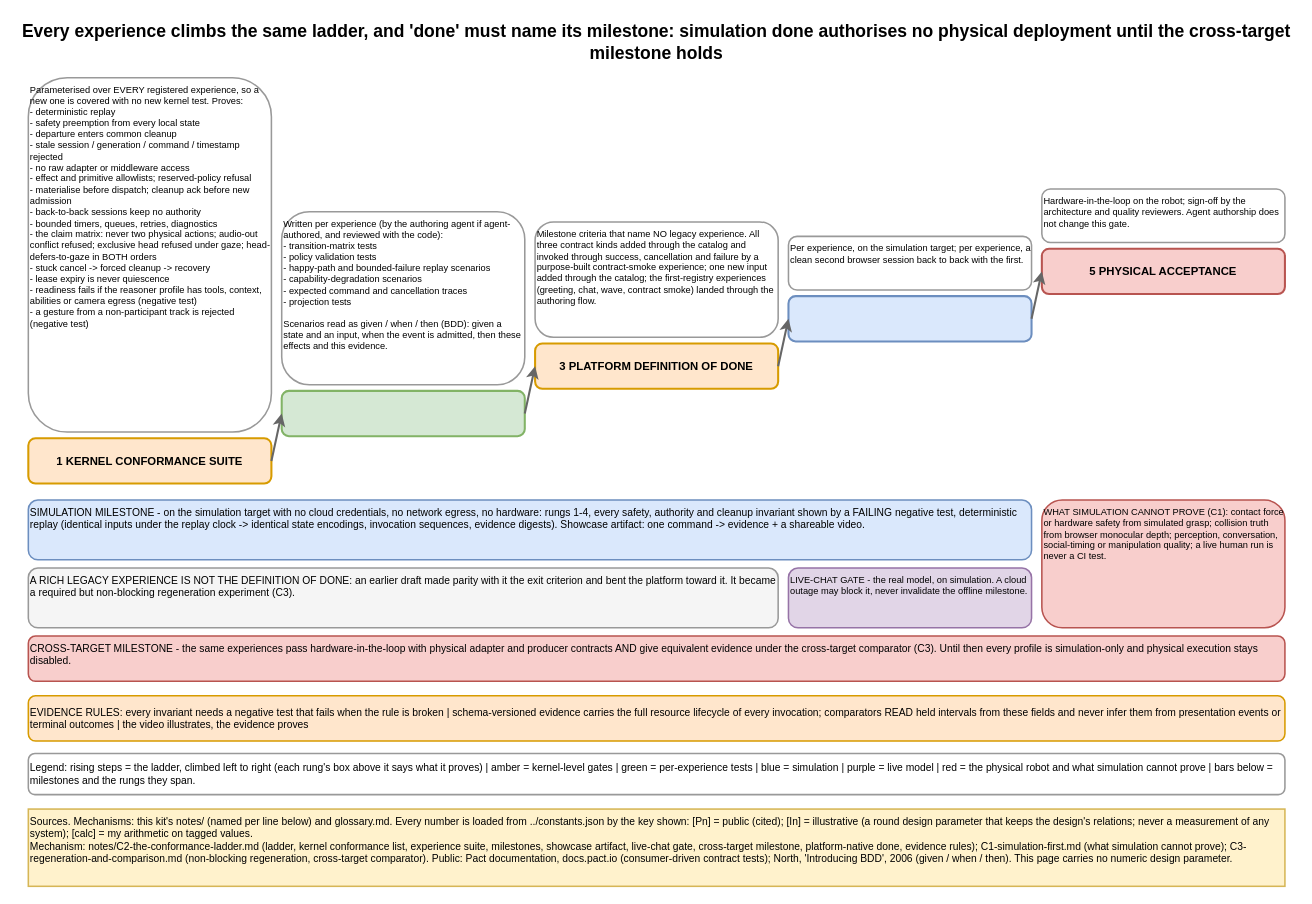
This 1312x904 diagram has some shape labels left out. Each missing label, with the centre of its shape:
2 EXPERIENCE SUITE: point (402, 413)
4 SIMULATION ACCEPTANCE: point (909, 318)
